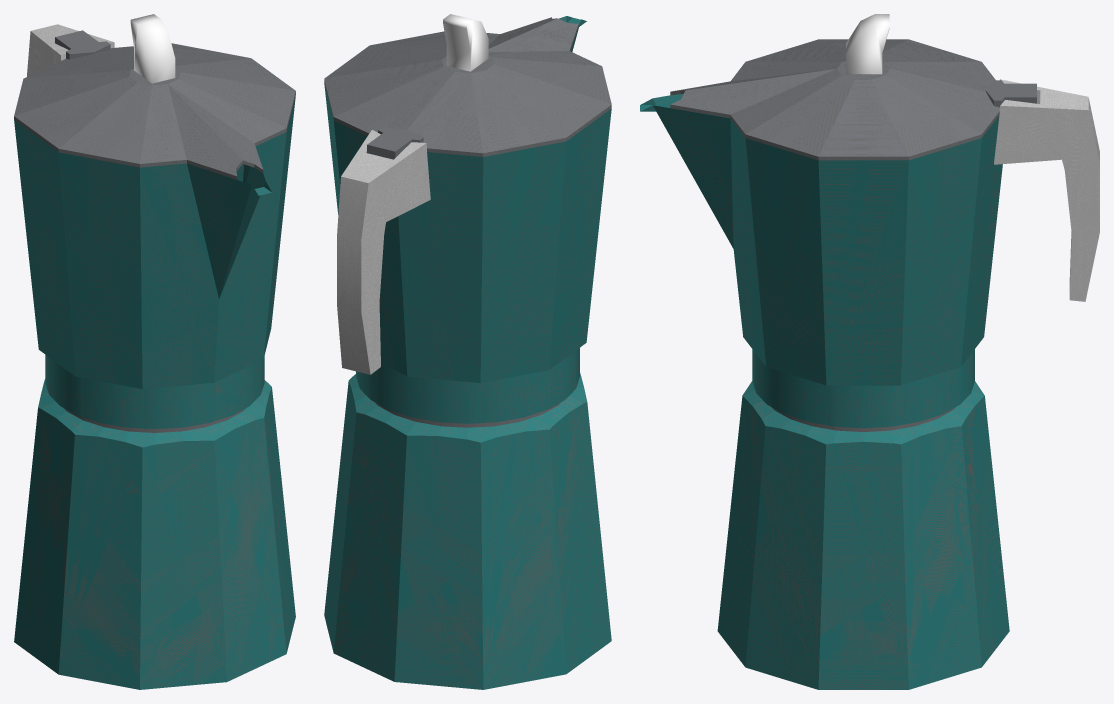
The model's file is Coffee_pot_1a.fbx.
The picture shows the model from 3 angles, left to right: view 1: azimuth 30°, elevation 25°; view 2: azimuth 150°, elevation 25°; view 3: azimuth 270°, elevation 25°; orthographic projection. The views are drawn at different scales.
Parts seen in each view (by area): view 1: Body, Cover, coffee_pot_top_handle1, Handle, Model; view 2: Body, Cover, Handle, coffee_pot_top_handle1, Model; view 3: Body, Cover, Handle, coffee_pot_top_handle1, Model.
Part boxes in pixels (x1,y1,x2,y2): Body: (14, 96, 295, 689); Cover: (14, 30, 295, 179); coffee_pot_top_handle1: (130, 14, 175, 83); Handle: (27, 24, 114, 76); Model: (64, 408, 245, 432); Body: (324, 16, 611, 689); Cover: (324, 17, 611, 159); Handle: (337, 130, 430, 374); coffee_pot_top_handle1: (443, 14, 488, 71); Model: (375, 402, 560, 427); Body: (640, 94, 1009, 689); Cover: (670, 39, 1036, 160); Handle: (994, 79, 1099, 301); coffee_pot_top_handle1: (846, 14, 889, 74); Model: (771, 407, 955, 431).
Bounding box in the file's own units: 0.1087 × 0.264 × 0.1799.
